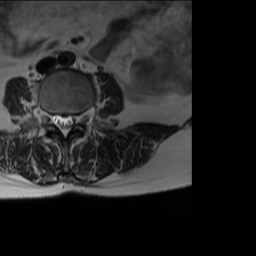CCS_normal: (60, 111, 67, 141)
LFS_normal: (74, 111, 83, 131)
LLS_normal: (66, 111, 74, 135)
RFS_normal: (43, 109, 53, 135)
RLS_normal: (52, 109, 59, 130)
